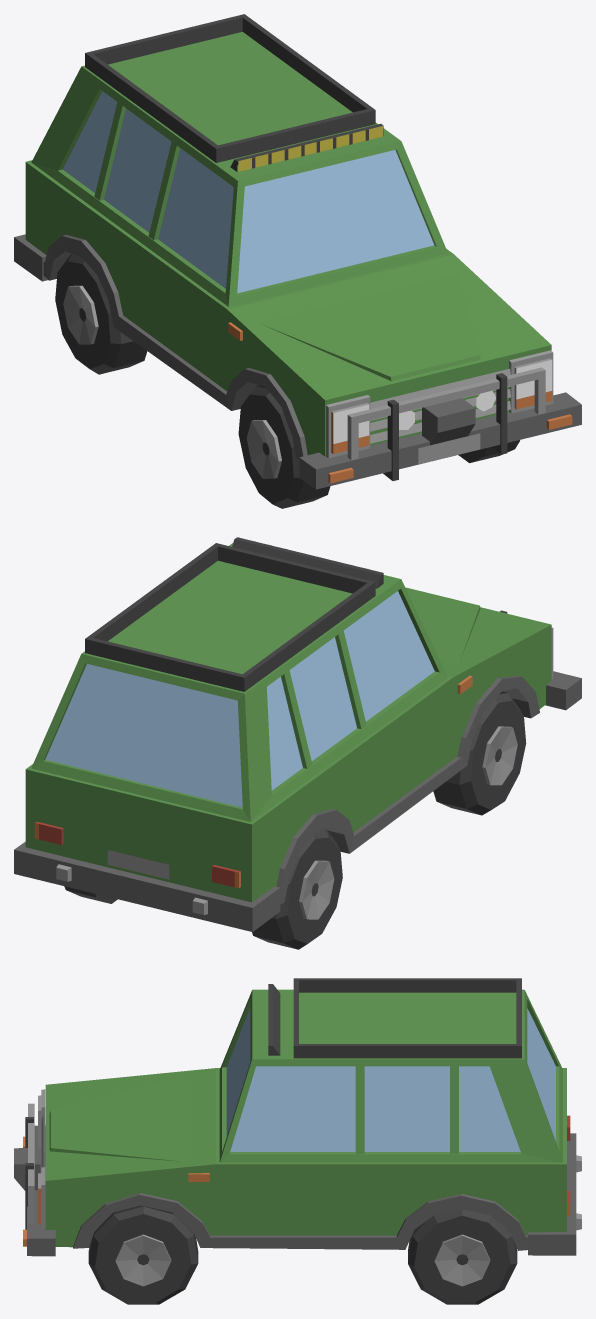
The model's file is transport_jeep_002.fbx.
3 views of the same model, one above another, from view 1: azimuth 30°, elevation 25°; view 2: azimuth 150°, elevation 25°; view 3: azimuth 270°, elevation 25° (orthographic). The views are drawn at different scales.
Visible parts, largest first — view 1: transport_jeep_002; view 2: transport_jeep_002; view 3: transport_jeep_002.
Part boxes in pixels (x1=…): transport_jeep_002: x1=14, y1=14, x2=581, y2=508; transport_jeep_002: x1=14, y1=537, x2=581, y2=949; transport_jeep_002: x1=14, y1=978, x2=581, y2=1304.
Size of the model in its own units: 170 by 173 by 361.
